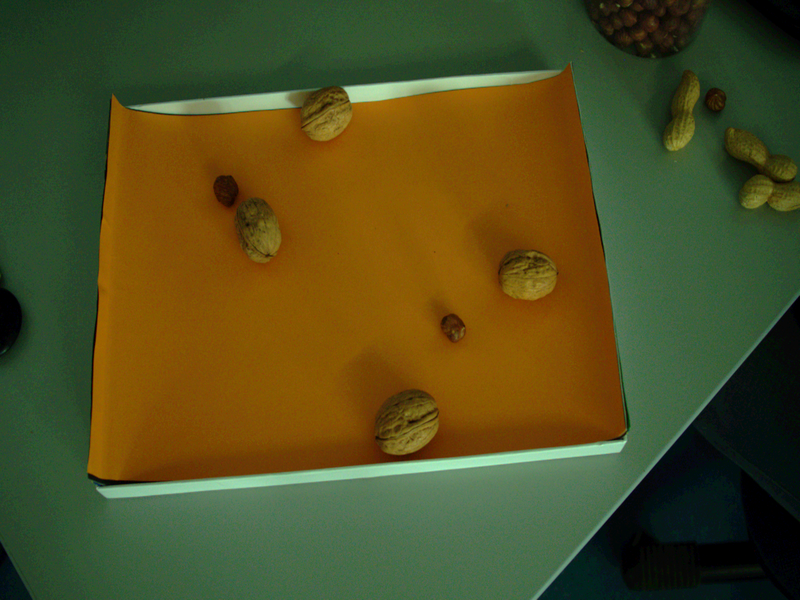walnut: (369, 386, 447, 458), (495, 247, 566, 302), (298, 84, 357, 142), (234, 195, 283, 264)
